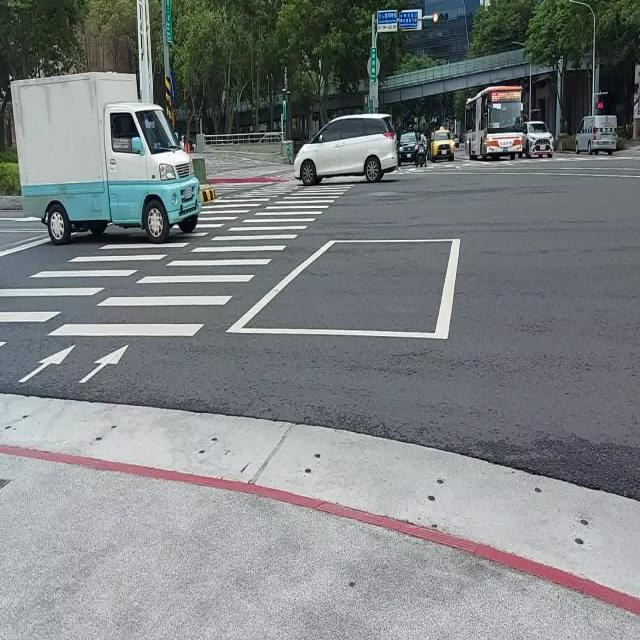bus: (465, 84, 524, 160)
car: (294, 113, 398, 184), (575, 116, 618, 156), (522, 120, 554, 158), (430, 129, 454, 162), (398, 131, 418, 161)
crosswalk: (0, 179, 304, 350), (47, 182, 356, 336)
motocycle: (415, 133, 428, 166)
trunk: (11, 73, 200, 244)
